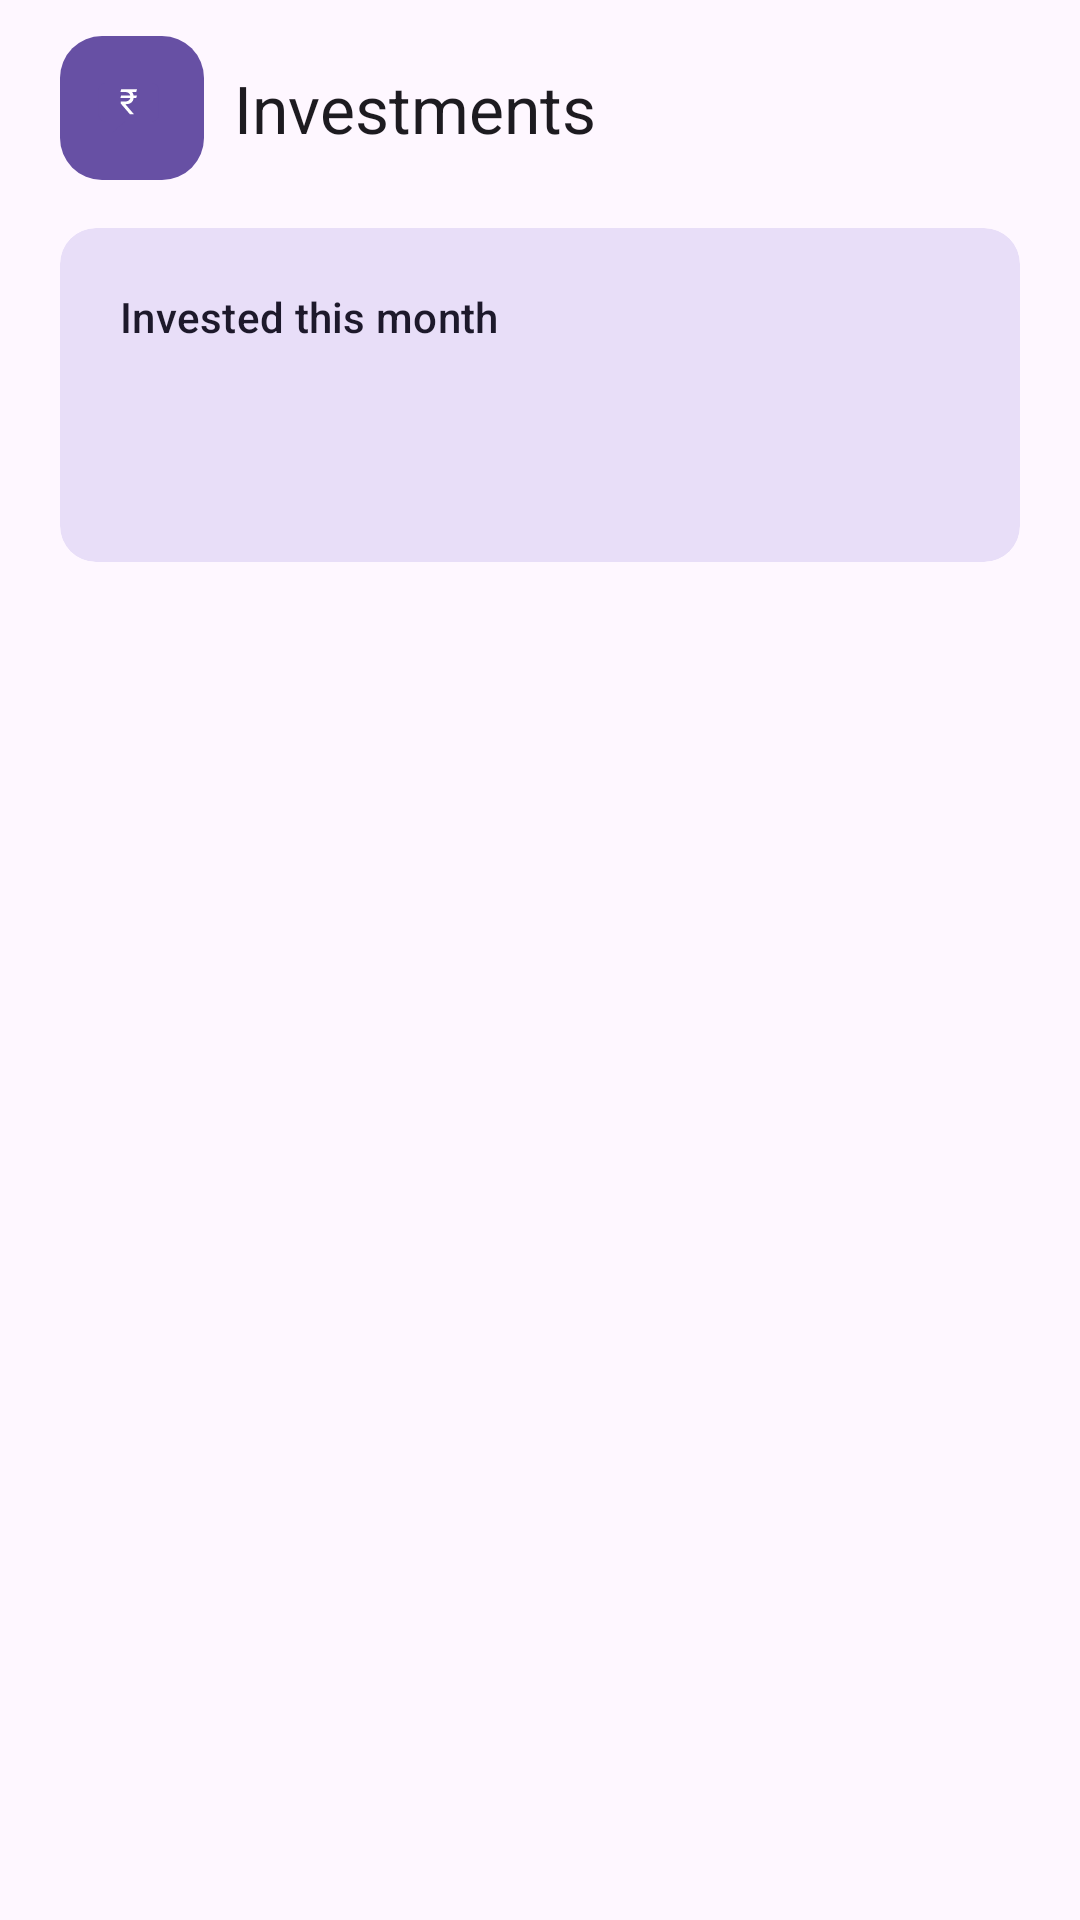

Screen size 1080px×1920px. Icon name, then its center in pixels as (x=x, y=y):
brand mark: (x=132, y=108)
